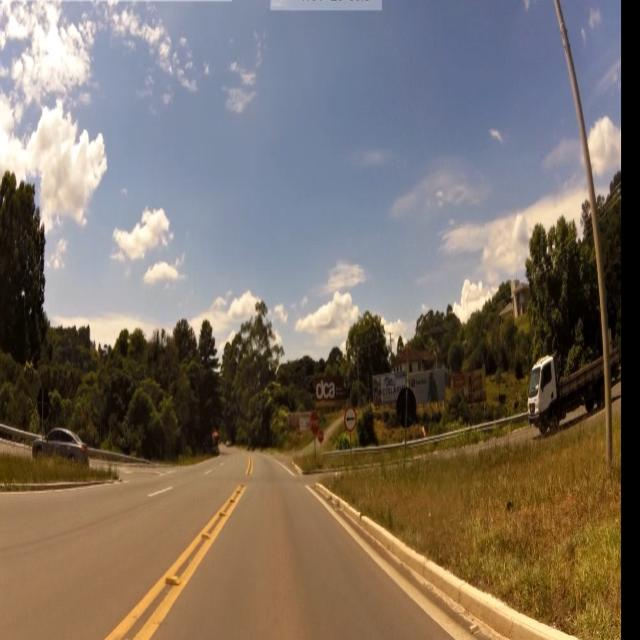R-24a: (344, 408, 356, 431)
